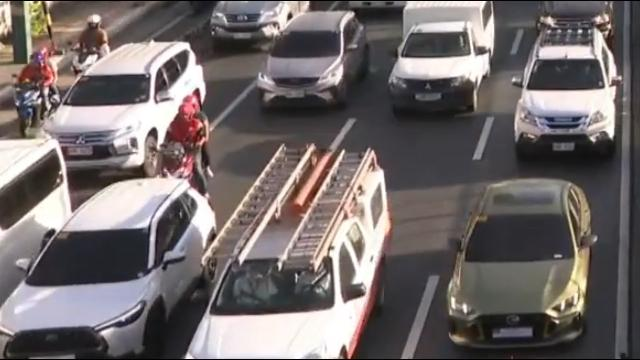car: (0, 167, 221, 359), (443, 175, 599, 354), (39, 33, 208, 179), (513, 23, 626, 163), (255, 10, 372, 113), (210, 0, 314, 43), (532, 1, 616, 44)
motorcycle: (144, 94, 215, 189), (11, 45, 62, 140), (72, 12, 107, 78)
truck: (176, 143, 402, 360)
van: (384, 0, 497, 113)
